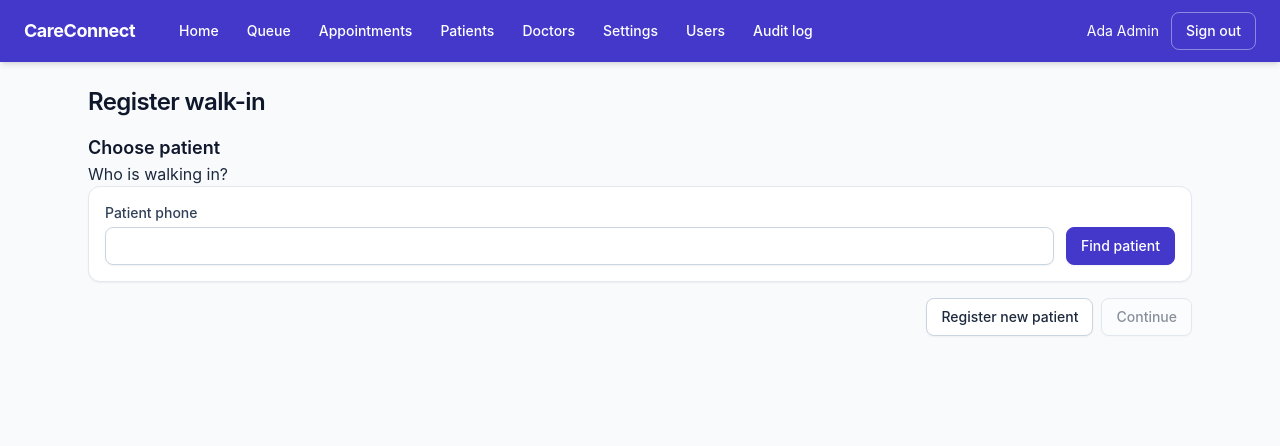
Test case: Walk-in registration › falls back to other doctors of the specialty and says why
Step 1. Type "98765 43210" into the field labelled "Patient phone" → (580, 246), box [105,227,1054,265]
Step 2. Click the button "Find patient" → click(1120, 246), box [1066,227,1175,265]
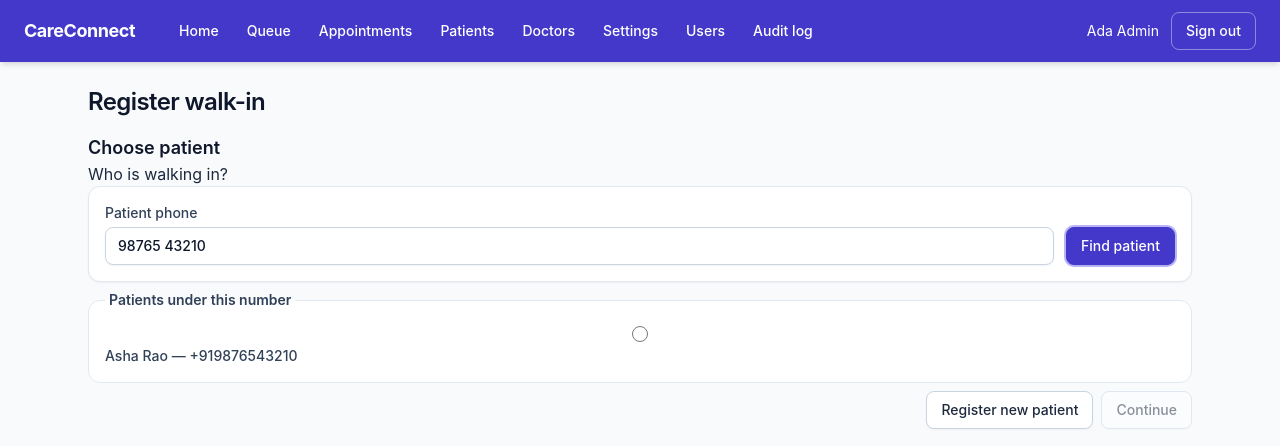
Step 3. Click the radio button labelled "Asha Rao — +919876543210" → click(640, 334), box [105,326,1175,342]
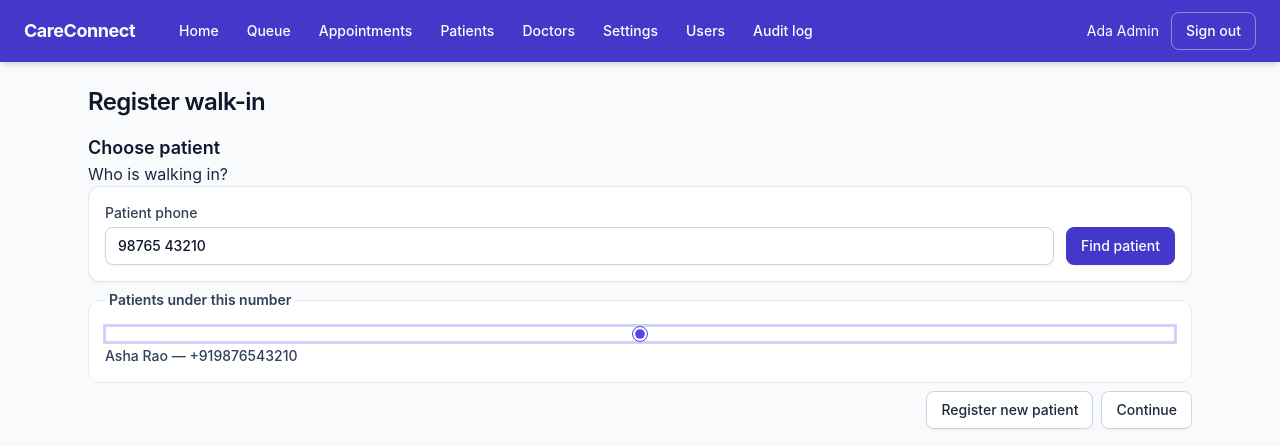
Step 4. Click the button "Continue" → click(1147, 410), box [1102,391,1192,429]
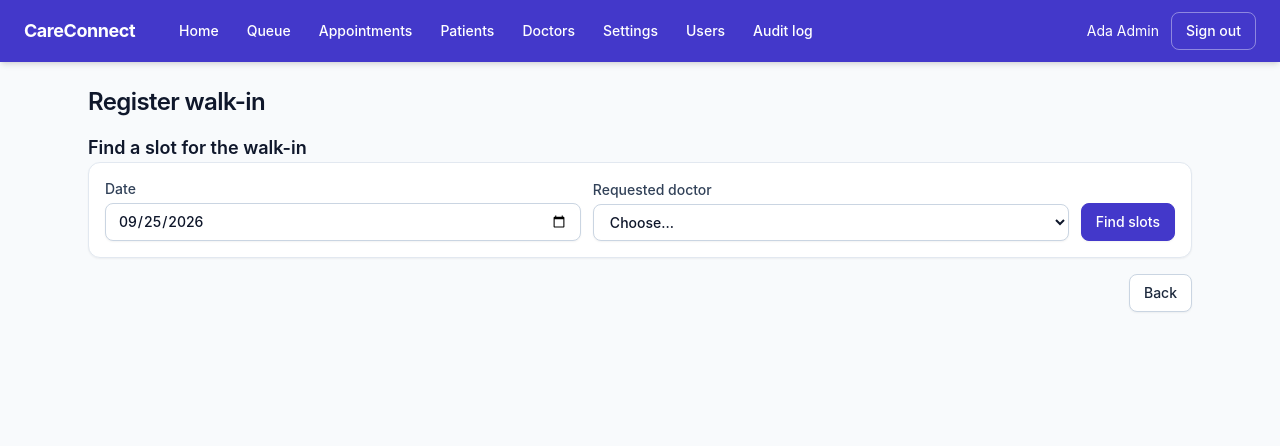
Step 5. Type "2026-03-02" into the date field labelled "Date" → (343, 222), box [105,203,581,241]
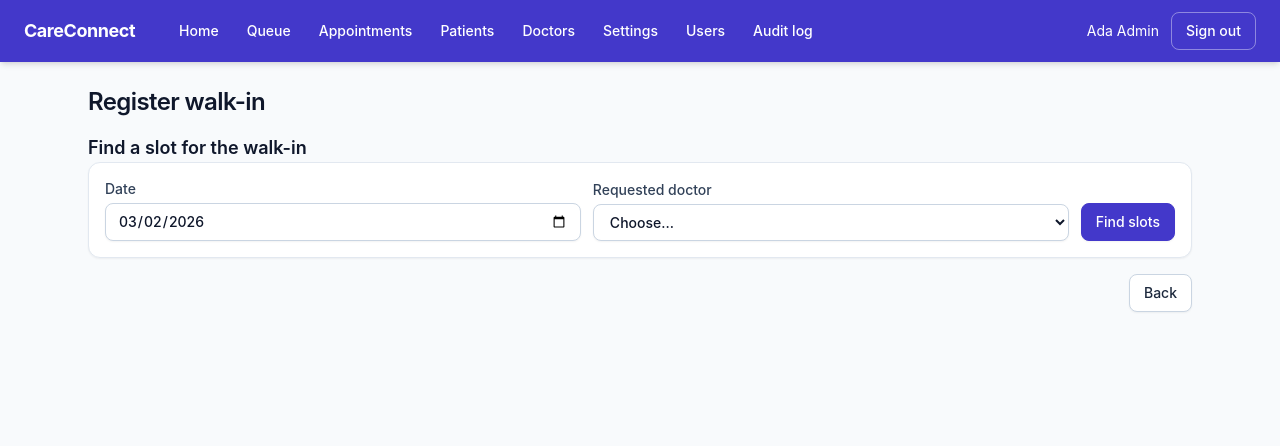
Step 6. Select "Dr Dan" in the dropdown labelled "Requested doctor" → (831, 222), box [593,204,1069,241]
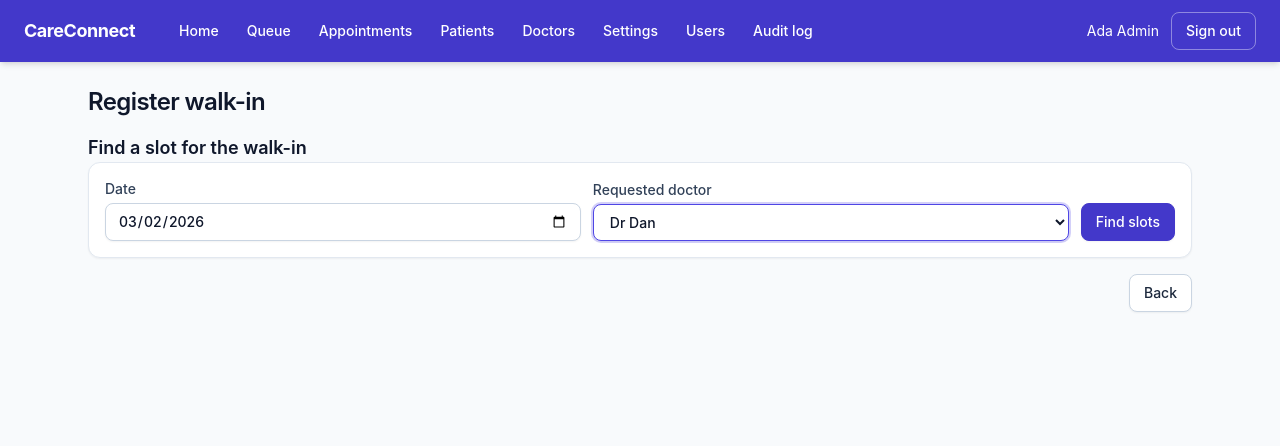
Step 7. Click the button "Find slots" → click(1128, 222), box [1081,203,1175,241]
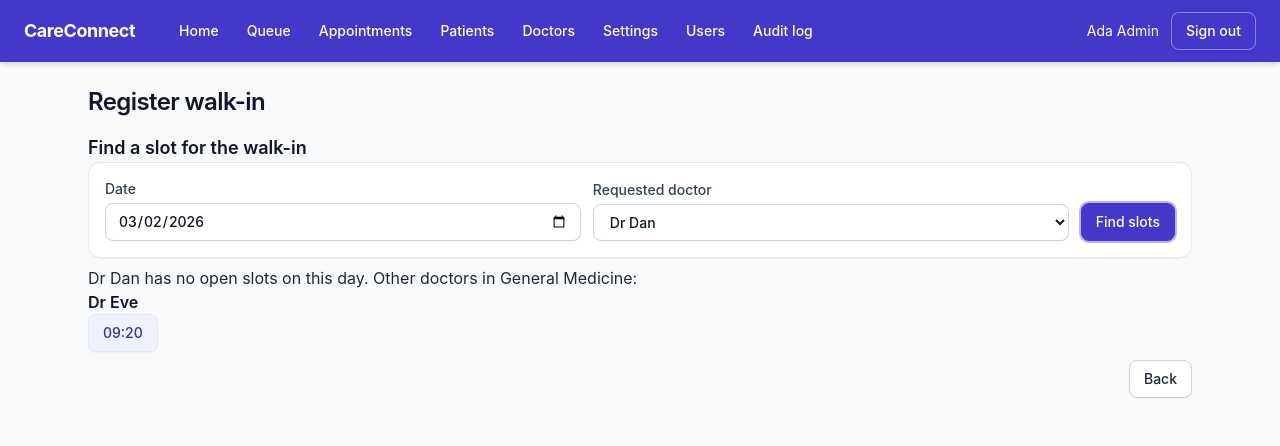
Check: the text "Dr Dan has no open slots on this day. Other doctors in General Medicine:" is shown, box [88,268,637,288]
Check: the button "09:20" is shown, box [88,314,158,352]
